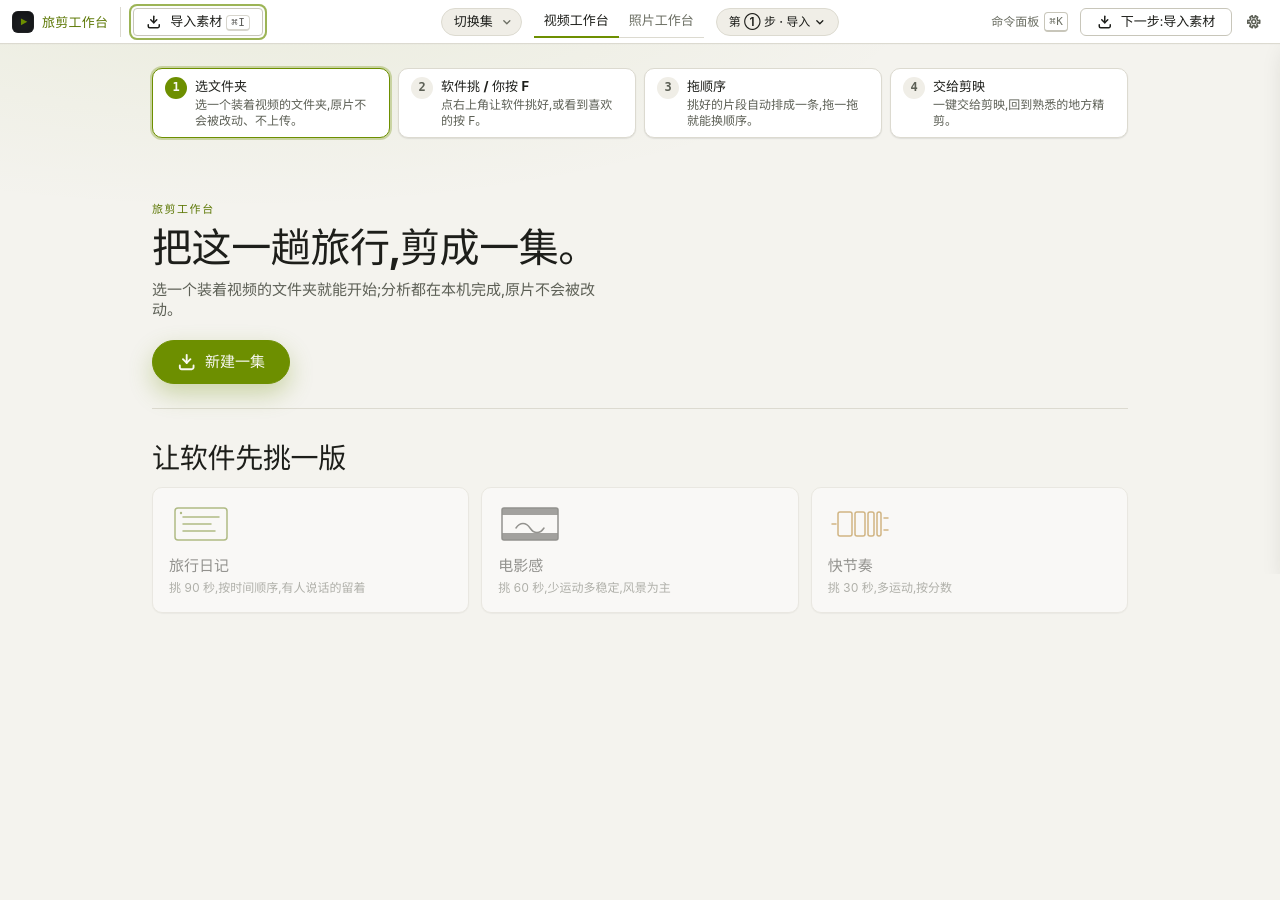
Test: 导入抽屉:原生内容(R9 Task 5) › 来源分页:工具链缺失时出警告卡,「去设置」打开设置 sheet 而不改 hash
Click the button "导入素材 ⌘I": [198, 22] box x1=133 y1=8 x2=263 y2=36
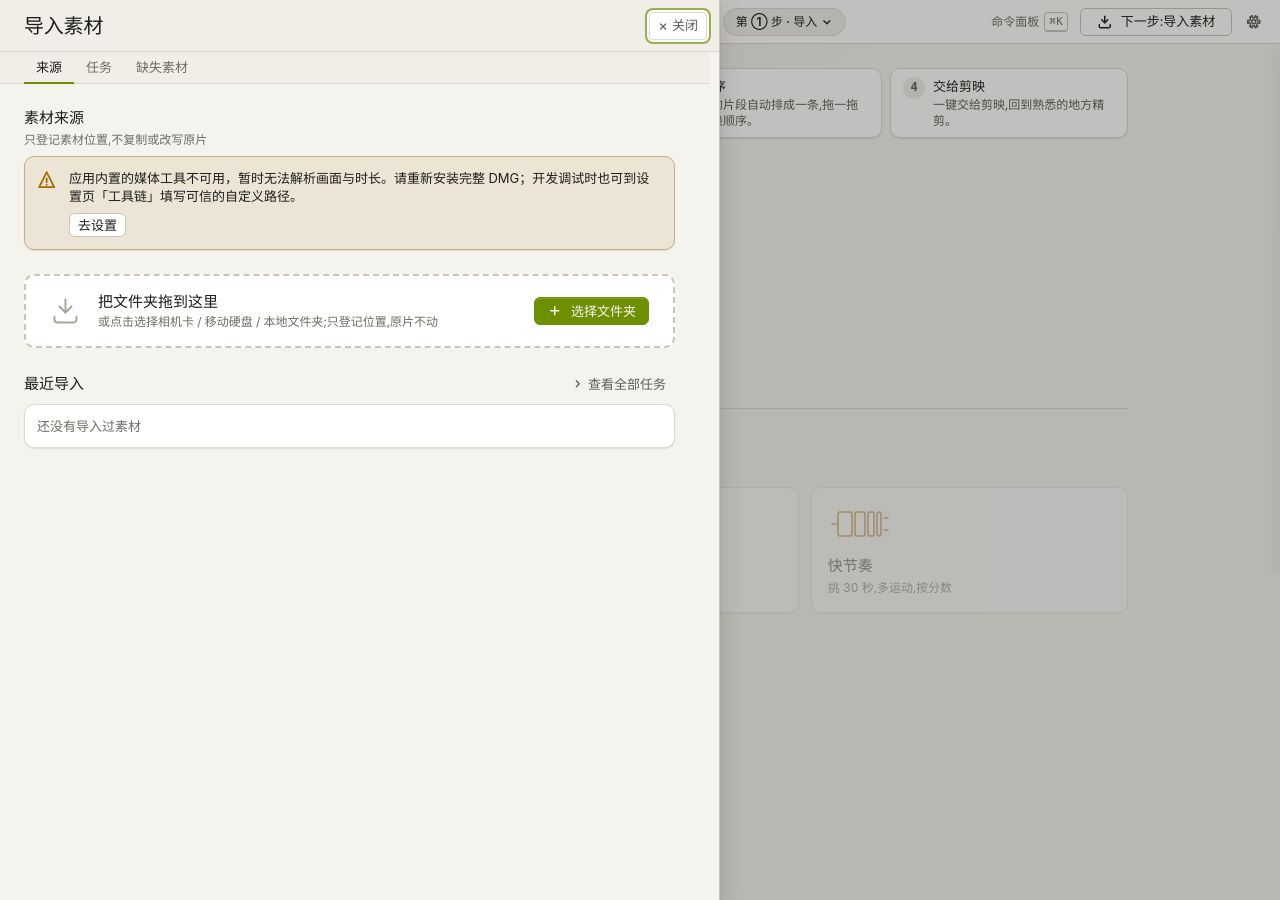
Expected: the message shows "应用内置的媒体工具不可用", x1=69 y1=170 x2=649 y2=204
Click the button "去设置": [98, 225] box x1=69 y1=213 x2=126 y2=237
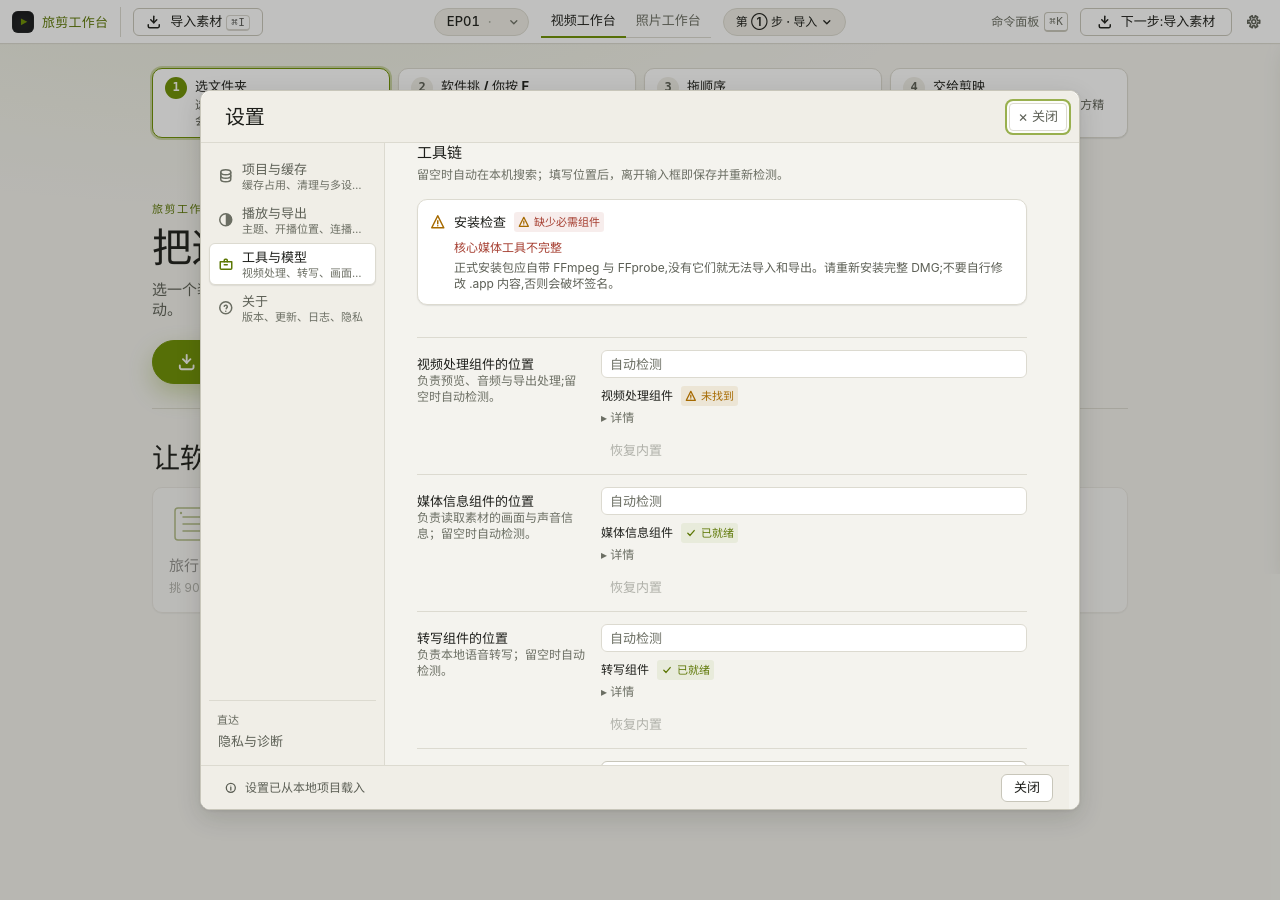
Expected: the heading "工具链" is shown, x1=417 y1=143 x2=462 y2=163
Expected: the tab "工具与模型 视频处理、转写、画面识别、云端补镜" is shown, x1=209 y1=243 x2=376 y2=285
